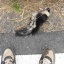skunk: (15, 8, 51, 34)
